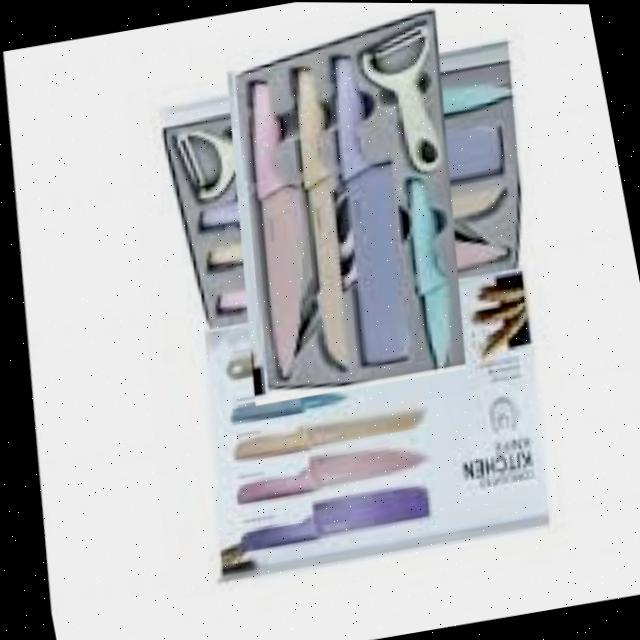knife: (306, 49, 428, 370), (225, 75, 334, 381), (274, 65, 369, 374), (232, 479, 434, 556), (230, 432, 431, 508), (392, 174, 466, 371), (228, 400, 430, 463)
